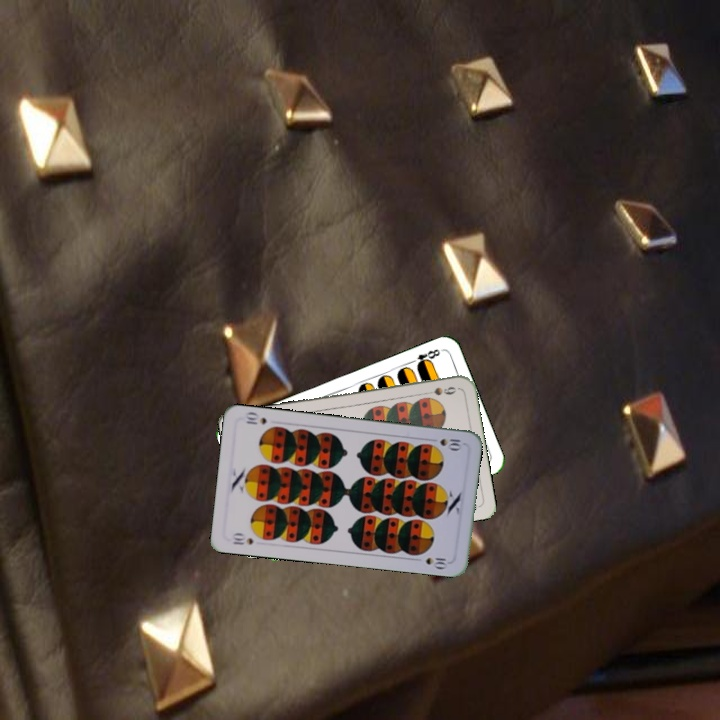E8: (405, 345, 443, 370)
S10: (436, 435, 466, 452), (229, 529, 256, 547)
S9: (419, 383, 458, 398)
